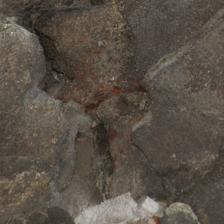Crack: (0, 59, 107, 132), (0, 44, 90, 103), (65, 76, 138, 132)
